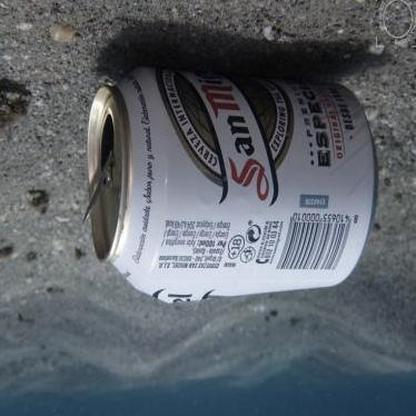can: (84, 68, 378, 303)
